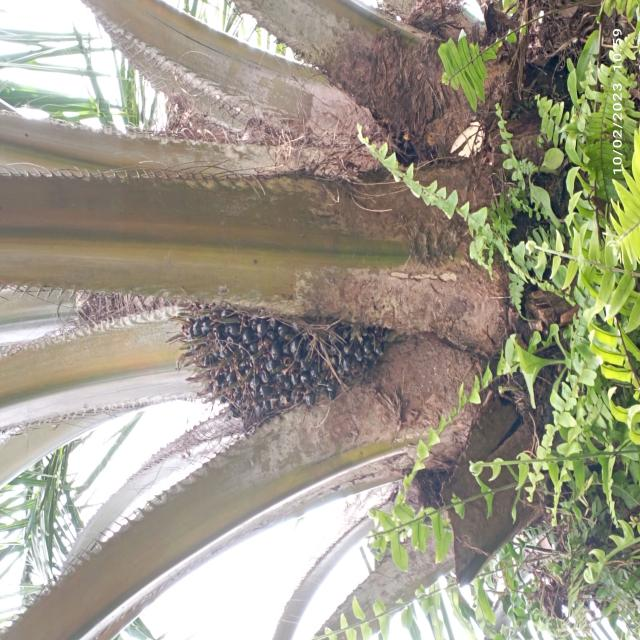fraksi 00: (144, 286, 388, 442)
